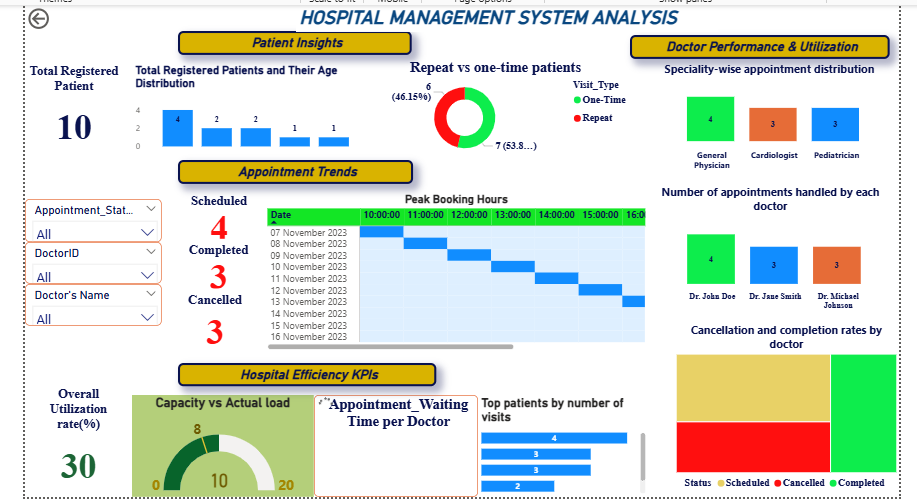

What the dashboard file says about the page in this screenshot:
{"tool":"powerbi","page":{"name":"Page 1","canvas":[1280,720],"ordinal":0},"visuals":[{"type":"card","title":"Total Registered Patient","fields":{"Values":["Patient.PatientID"]},"box":[0,84.9,143.4,136.1],"z":0},{"type":"clusteredColumnChart","title":"Total Registered Patients and Their Age Distribution","fields":{"Y":["Patient.PatientID"],"Category":["Patient.Age Group"]},"box":[156.6,84.9,346.8,136.1],"z":1000},{"type":"donutChart","title":"Repeat vs one-time patients","fields":{"Y":["PatientsAttendAppointments.PatientID"],"Category":["PatientsAttendAppointments.Visit_Type"]},"box":[480,79,417.1,147.8],"z":2000},{"type":"clusteredColumnChart","title":"Number of appointments handled by each doctor","fields":{"Category":["Doctor.Doctor's Name"],"Y":["Appointment.AppointmentID"]},"box":[913.2,262,355.6,193.2],"z":3000},{"type":"clusteredColumnChart","title":"Speciality-wise appointment distribution","fields":{"Category":["Doctor.Speciality"],"Y":["Appointment.AppointmentID"]},"box":[913.2,82,352.7,168.3],"z":4000},{"type":"slicer","fields":{"Values":["Appointment.Status"]},"box":[0,283.9,200.5,62.9],"z":5000},{"type":"treemap","title":"Cancellation and completion rates by doctor","fields":{"Values":["Appointment.AppointmentID"],"Group":["Appointment.Status"]},"box":[948.3,463.9,332.2,256.1],"z":6000},{"type":"card","title":"Cancelled","fields":{"Values":["Appointment.CancelledCount"]},"box":[206.3,420,143.4,87.8],"z":7000},{"type":"card","title":"Completed","fields":{"Values":["Appointment.CompletedCount"]},"box":[216.6,346.8,133.2,73.2],"z":8000},{"type":"card","title":"Scheduled","fields":{"Values":["Appointment.ScheduledCount"]},"box":[212.2,275.1,143.4,71.7],"z":9000},{"type":"pivotTable","title":"Peak Booking Hours","fields":{"Columns":["Appointment.StartTime"],"Rows":["Appointment.Date"],"Values":["Appointment.AppointmentID"]},"box":[349.8,273.7,563.4,235.6],"z":10000},{"type":"slicer","fields":{"Values":["Doctor.Doctor's Name"]},"box":[0,408.3,200.5,61.5],"z":11000},{"type":"card","title":"Overall Utilization rate(%)","fields":{"Values":["Appointment.Overall Utilization Rate (%)"]},"box":[0,557.6,156.6,162.4],"z":12000},{"type":"card","title":"Appointment_Waiting Time per Doctor","fields":{"Values":["AWG.AVGCONCT"]},"box":[422.9,570.7,240,149.3],"z":13000},{"type":"slicer","fields":{"Values":["AWG.DoctorID"]},"box":[0,346.8,200.5,61.5],"z":14000},{"type":"clusteredBarChart","title":"Top patients by number of visits","fields":{"Category":["Patient.Patient_name"],"Y":["PatientsAttendAppointments.Appointment_Count"]},"box":[662.9,570.7,250.2,149.3],"z":15000},{"type":"gauge","title":"Capacity vs Actual load ","fields":{"Y":["Appointment.Actual Appointments"],"TargetValue":["Doctor.Doctor Daily Capacity"]},"box":[156.6,570.7,266.3,149.3],"z":16000},{"type":"actionButton","box":[0,0,100,40],"z":17000},{"type":"textbox","title":"Hospital Efficiency KPIs","box":[223.9,523.9,377.6,33.7],"z":18000},{"type":"textbox","title":"Appointment Trends","box":[223.9,226.8,343.9,35.1],"z":19000},{"type":"textbox","title":"Doctor Performance & Utilization","box":[885.4,43.9,380.5,35.1],"z":20000},{"type":"textbox","title":"Patient Insights ","box":[223.9,38,342.4,35.1],"z":21000},{"type":"textbox","title":"HOSPITAL MANAGEMENT  SYSTEM ANALYSIS","box":[396.6,1.5,617.6,38],"z":22000}]}

Visuals, with their boxes on the page's 1280x720 design canvas (x1, y1, x2, y2). These are canvas units, not pixel positions in the 917x503 screenshot, which may show the page scaled, cropped or inside an application window:
"Total Registered Patient" card: {"left": 0, "top": 85, "right": 143, "bottom": 221}
"Total Registered Patients and Their Age Distribution" clusteredColumnChart: {"left": 157, "top": 85, "right": 503, "bottom": 221}
"Repeat vs one-time patients" donutChart: {"left": 480, "top": 79, "right": 897, "bottom": 227}
"Number of appointments handled by each doctor" clusteredColumnChart: {"left": 913, "top": 262, "right": 1269, "bottom": 455}
"Speciality-wise appointment distribution" clusteredColumnChart: {"left": 913, "top": 82, "right": 1266, "bottom": 250}
slicer - Appointment.Status: {"left": 0, "top": 284, "right": 200, "bottom": 347}
"Cancellation and completion rates by doctor" treemap: {"left": 948, "top": 464, "right": 1280, "bottom": 720}
"Cancelled" card: {"left": 206, "top": 420, "right": 350, "bottom": 508}
"Completed" card: {"left": 217, "top": 347, "right": 350, "bottom": 420}
"Scheduled" card: {"left": 212, "top": 275, "right": 356, "bottom": 347}
"Peak Booking Hours" pivotTable: {"left": 350, "top": 274, "right": 913, "bottom": 509}
slicer - Doctor.Doctor's Name: {"left": 0, "top": 408, "right": 200, "bottom": 470}
"Overall Utilization rate(%)" card: {"left": 0, "top": 558, "right": 157, "bottom": 720}
"Appointment_Waiting Time per Doctor" card: {"left": 423, "top": 571, "right": 663, "bottom": 720}
slicer - AWG.DoctorID: {"left": 0, "top": 347, "right": 200, "bottom": 408}
"Top patients by number of visits" clusteredBarChart: {"left": 663, "top": 571, "right": 913, "bottom": 720}
"Capacity vs Actual load " gauge: {"left": 157, "top": 571, "right": 423, "bottom": 720}
actionButton: {"left": 0, "top": 0, "right": 100, "bottom": 40}
"Hospital Efficiency KPIs" textbox: {"left": 224, "top": 524, "right": 602, "bottom": 558}
"Appointment Trends" textbox: {"left": 224, "top": 227, "right": 568, "bottom": 262}
"Doctor Performance & Utilization" textbox: {"left": 885, "top": 44, "right": 1266, "bottom": 79}
"Patient Insights " textbox: {"left": 224, "top": 38, "right": 566, "bottom": 73}
"HOSPITAL MANAGEMENT  SYSTEM ANALYSIS" textbox: {"left": 397, "top": 2, "right": 1014, "bottom": 40}
